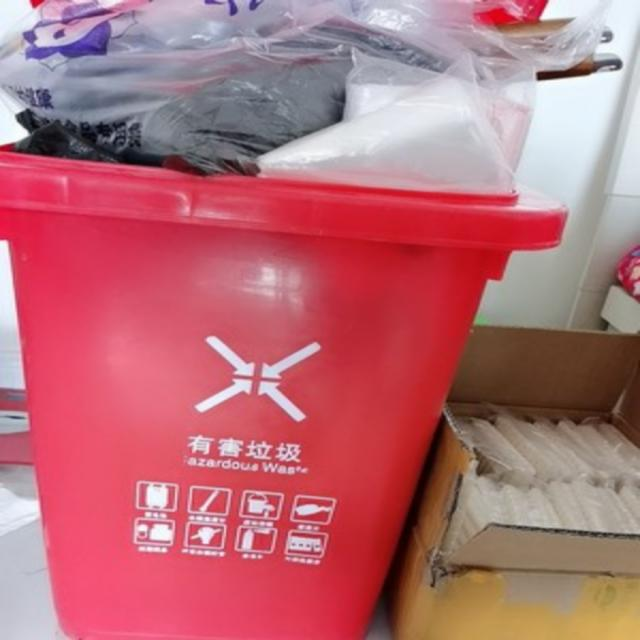ash bin: (2, 133, 574, 635)
